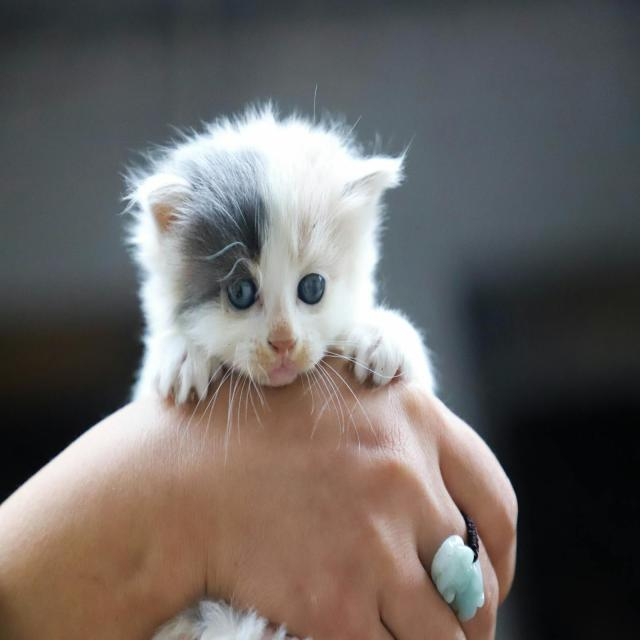Cat: (117, 86, 438, 638)
